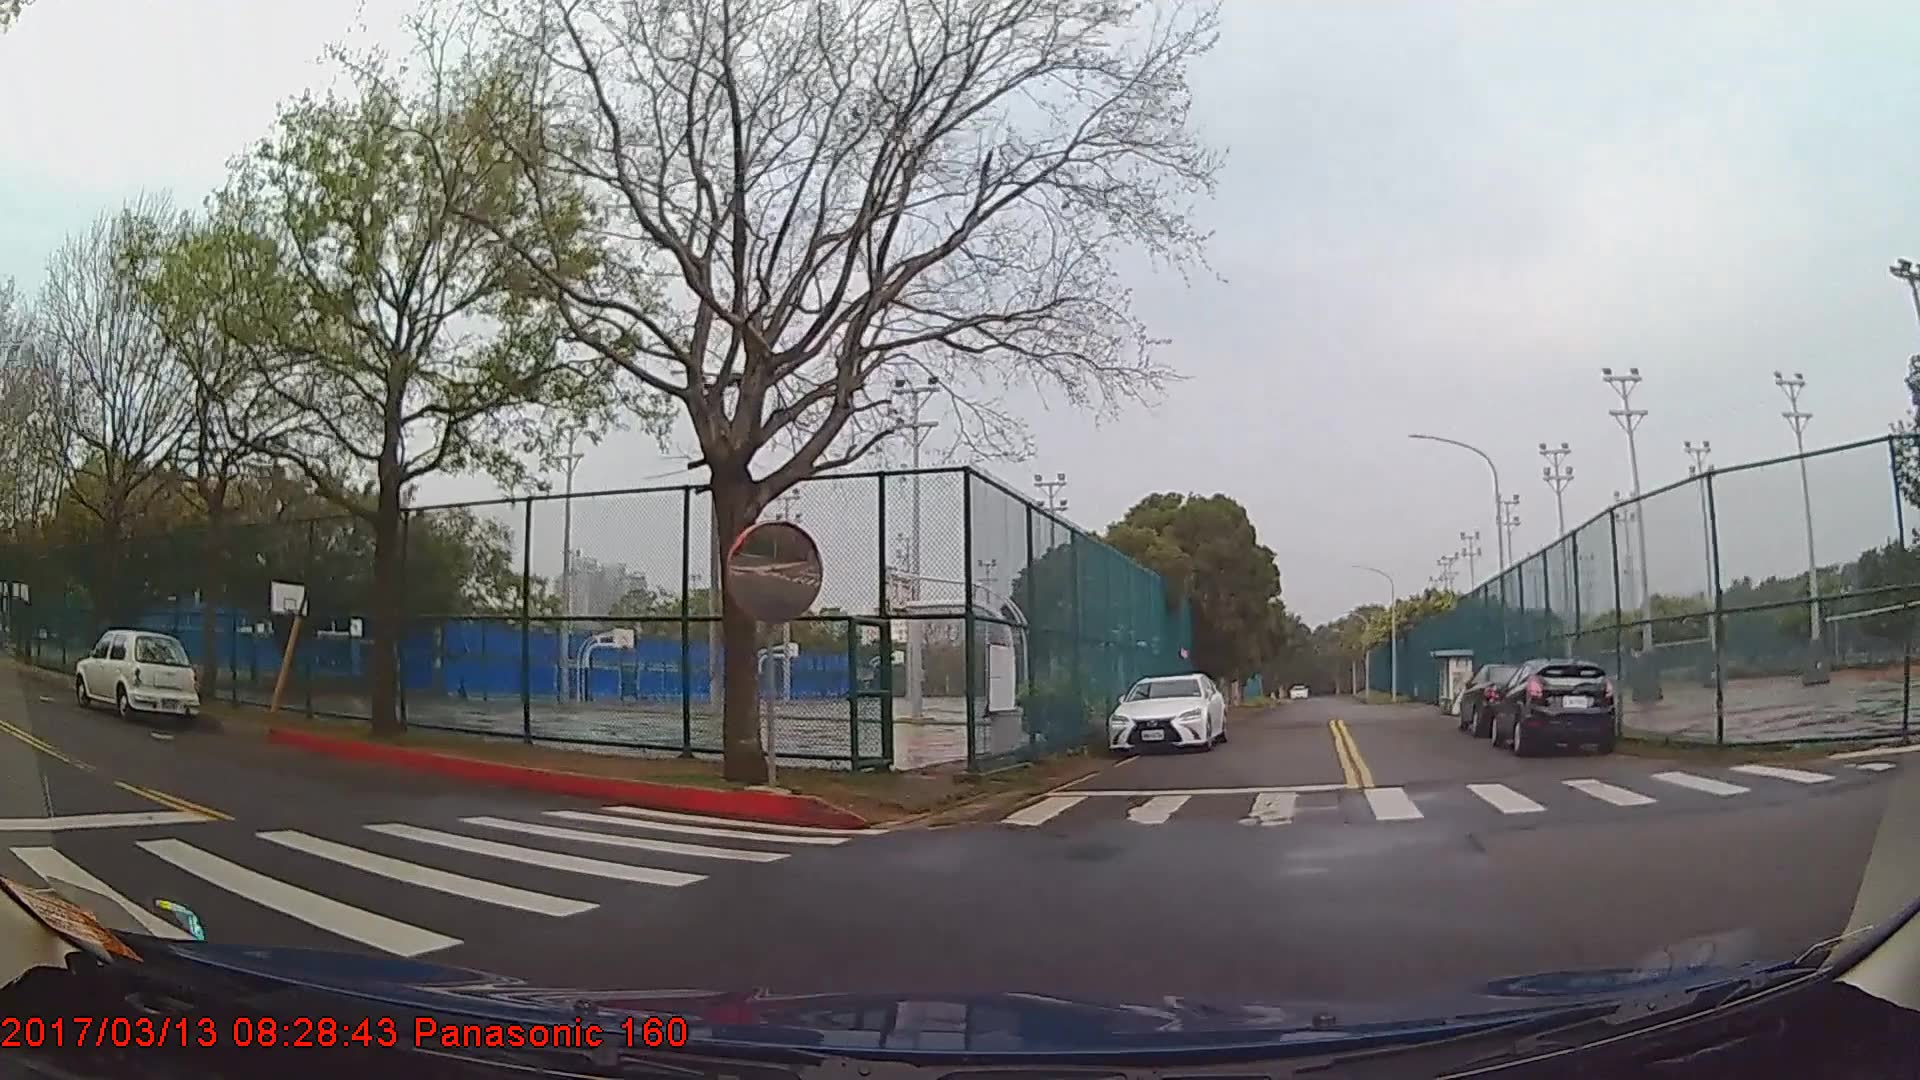vehicle: (70, 626, 204, 723), (1491, 657, 1619, 756), (1108, 673, 1226, 756), (1458, 661, 1539, 737)
